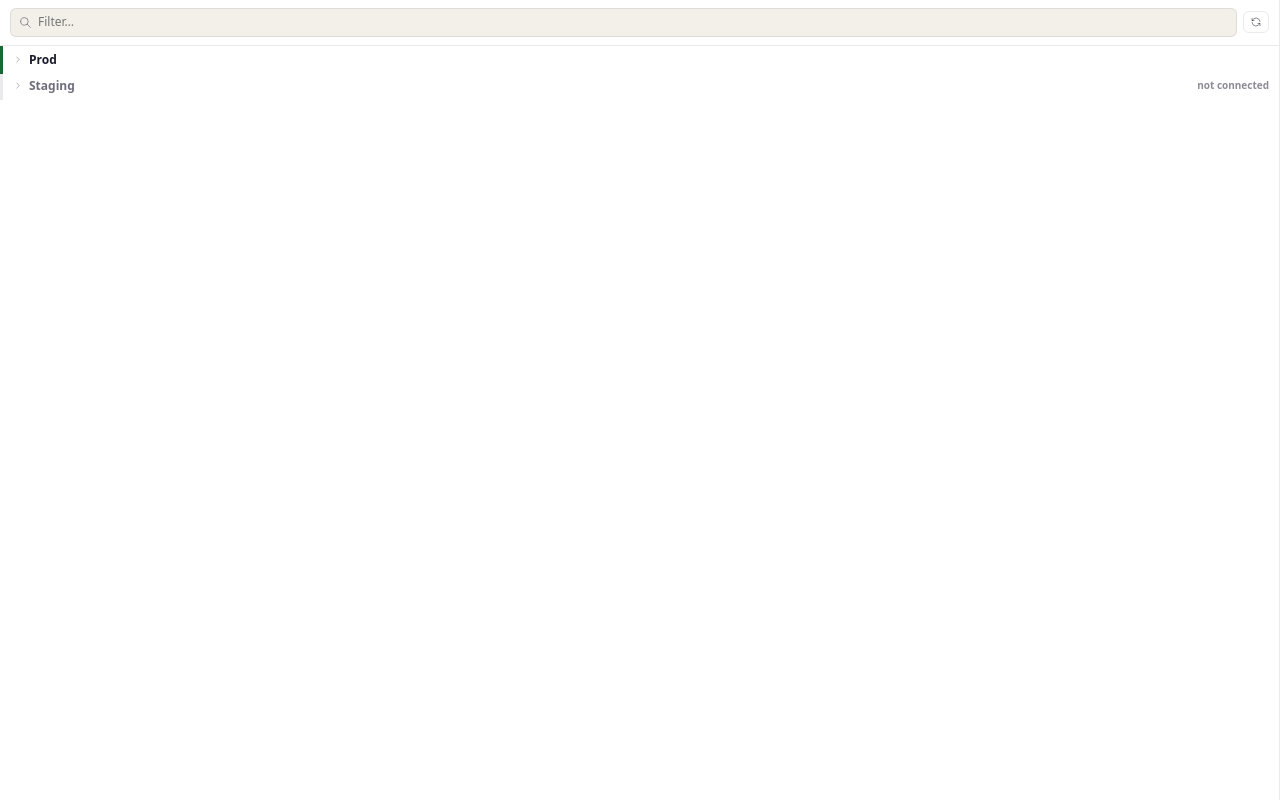
expanding a Dormant root connects it, then expands › connects the Dormant root on click, and expands it immediately
Step 1. Click the list item with test id "nav-connection" showing "Staging not connected" → (52, 85), box 12,77 -> 1269,94
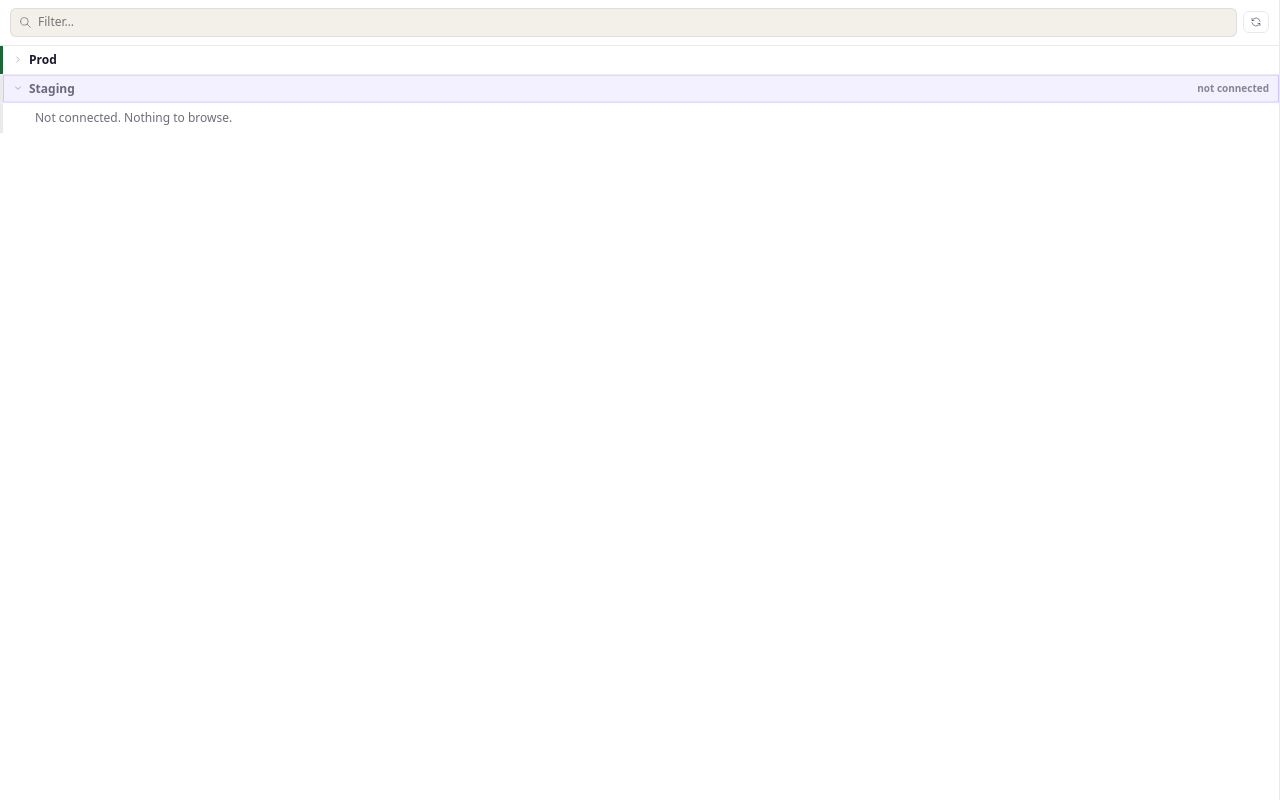
Result: the list item with test id "nav-connection" is expanded at 3,74 -> 1279,103
